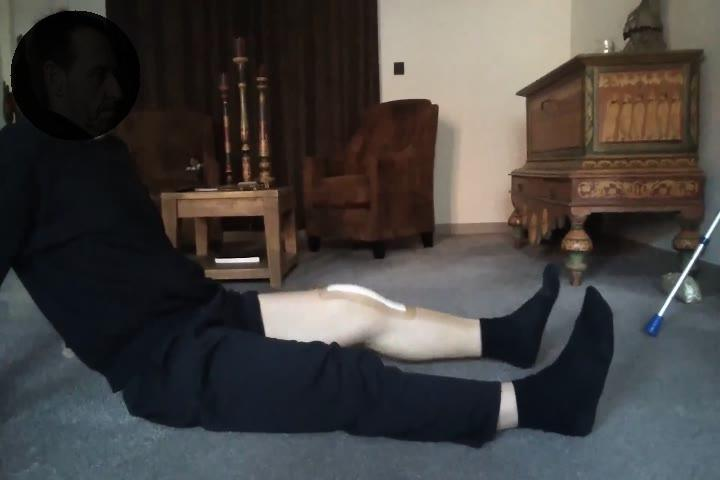lower_body: (120, 252, 624, 457)
